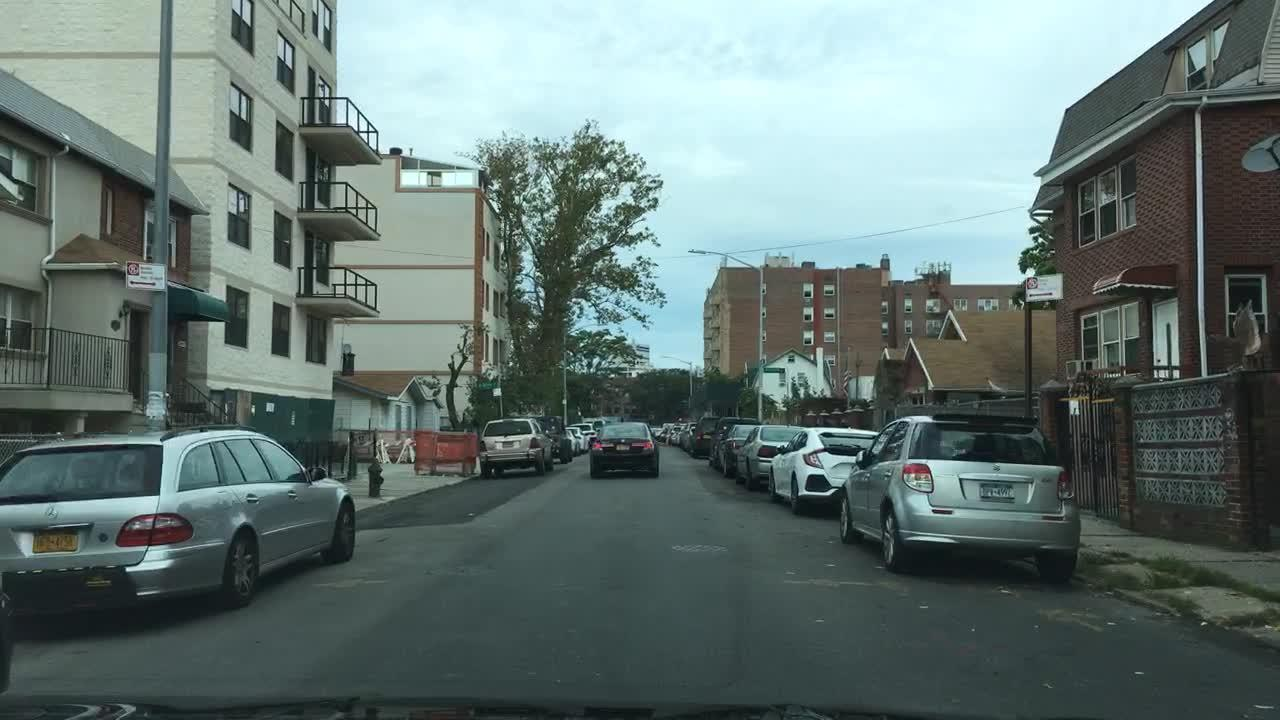Mercedes: (42, 502, 64, 526)
